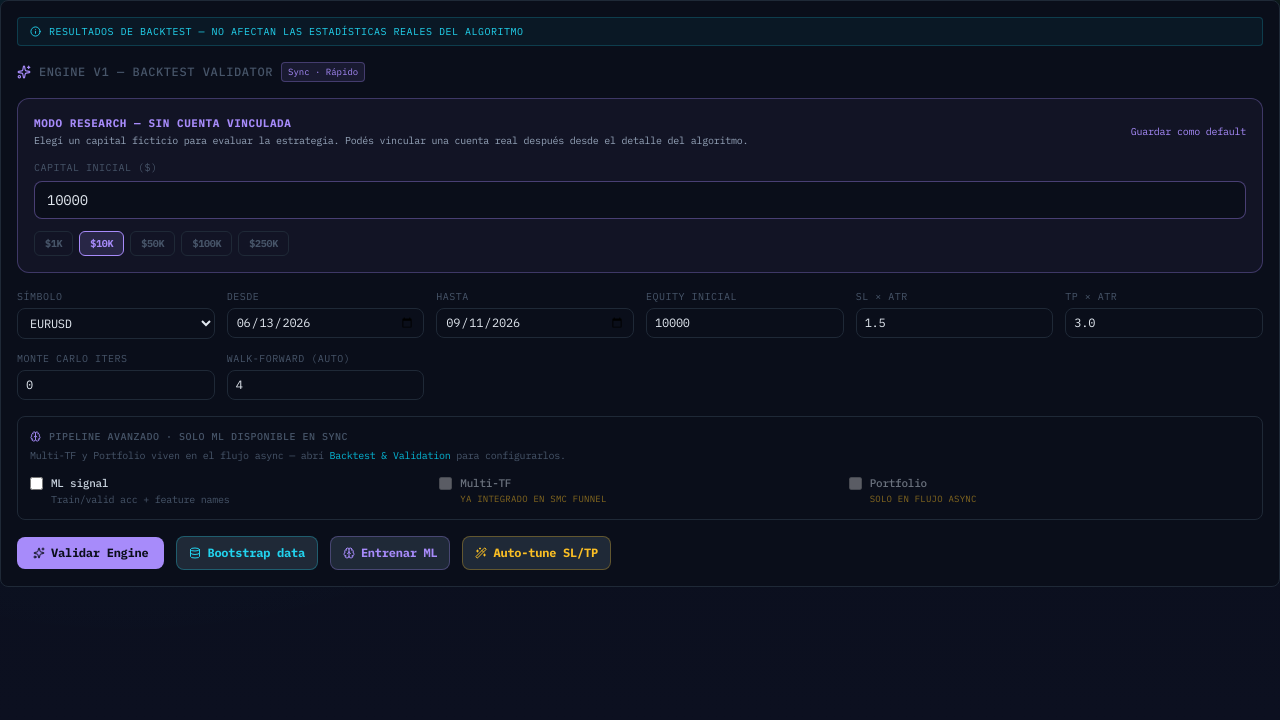
Test case: EngineBacktestPanel — Auto-tune SL/TP (Mejora #6) › error event from the stream surfaces in the panel
Click the button with test id "auto-tune-button". click: (537, 552)
box: [462,536,611,570]
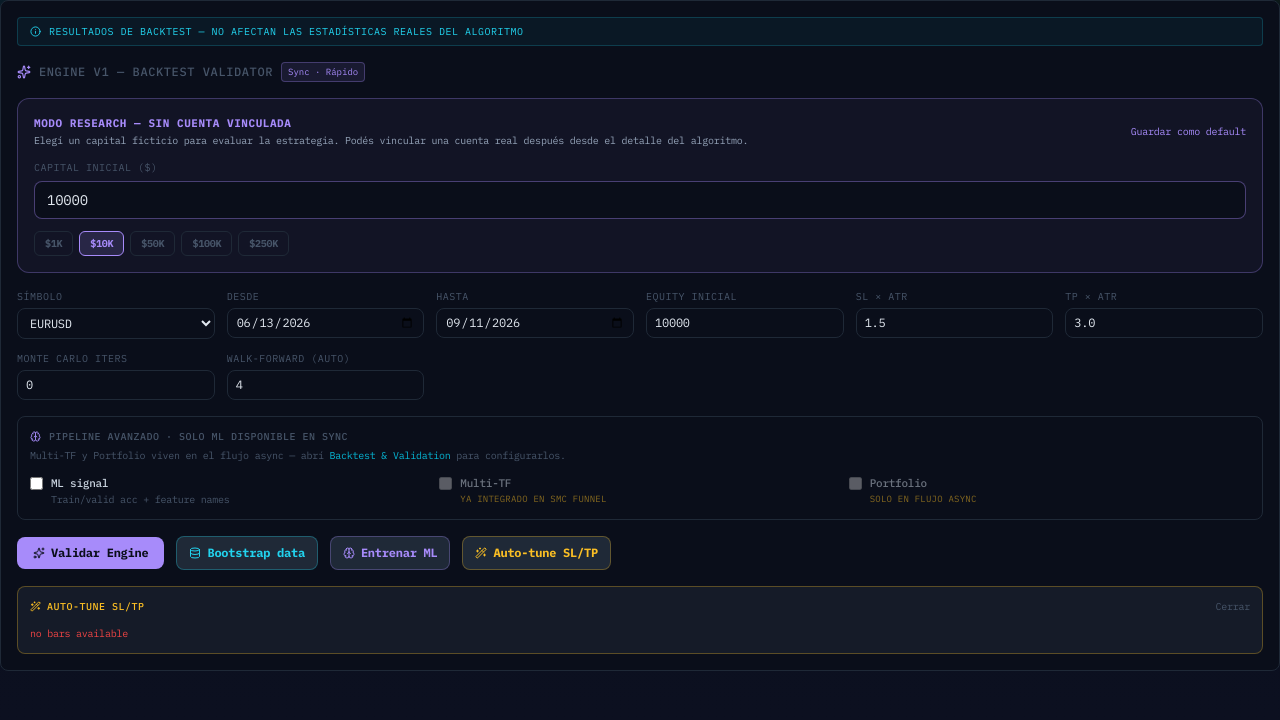
Result: the text "no bars available" is shown at [30,626,128,640]
